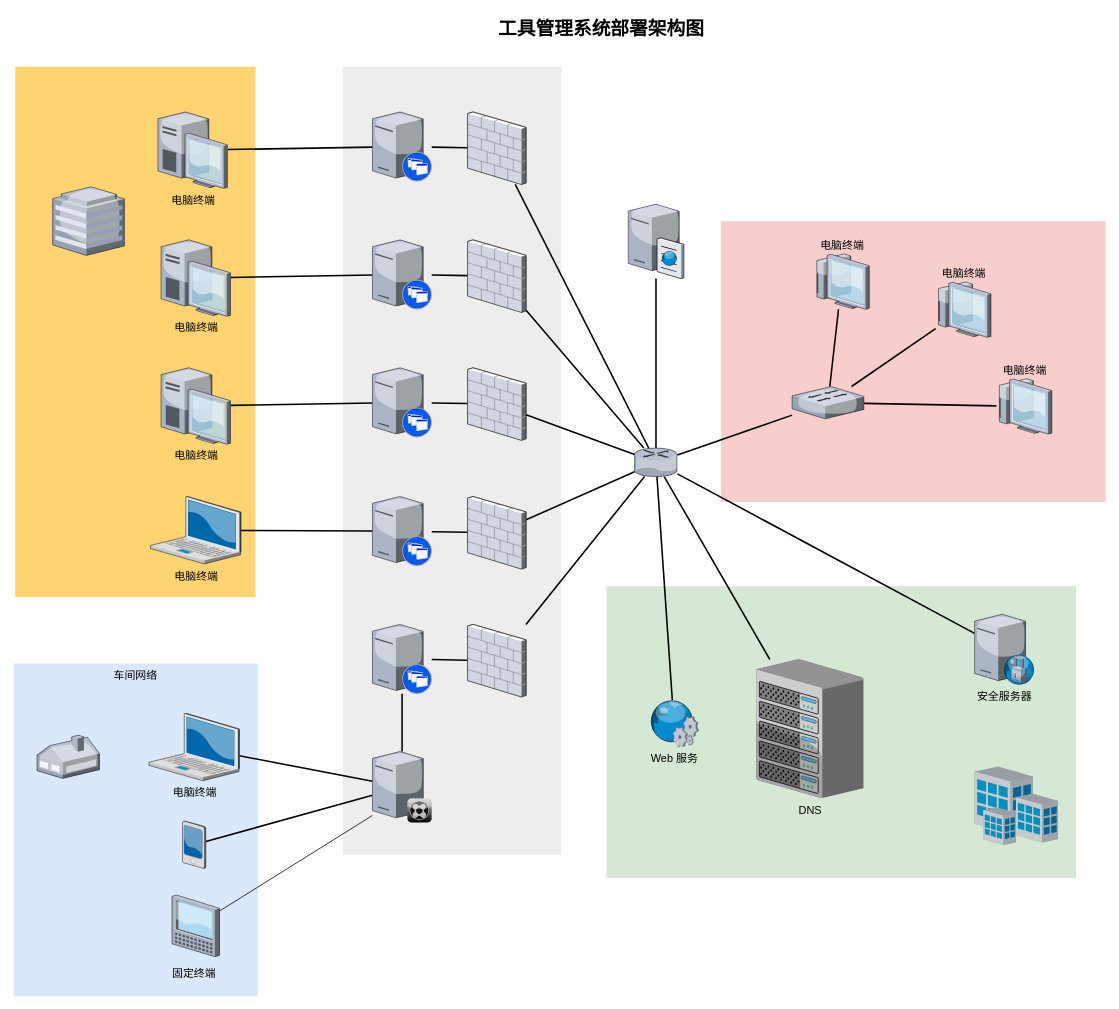
The diagram is 1119 pixels wide and 1009 high, and some of its shapes have lost their labels. The box of each missing label's shape, as (x1, y1, x2, y2) in pixels:
Web 服务器: (628, 202, 683, 278)
单位云: (606, 586, 1076, 878)
单位网络: (15, 66, 255, 597)
外部网络: (721, 221, 1105, 502)
带防火墙的服务器: (342, 66, 561, 854)
手机终端: (182, 821, 206, 868)
